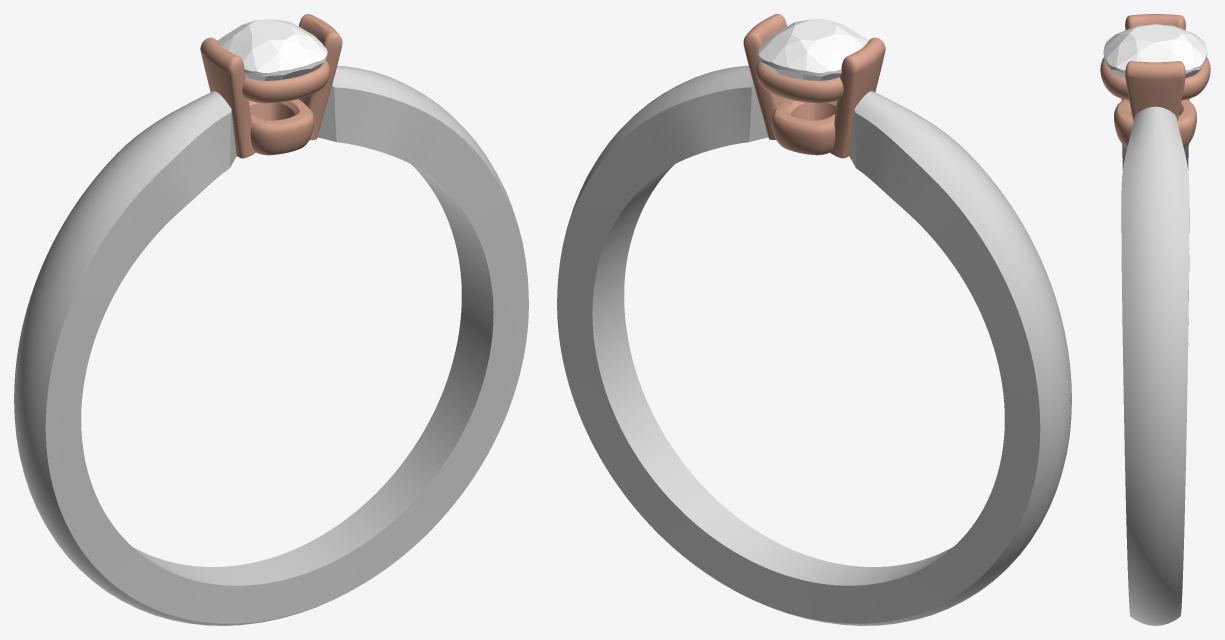
Rendered from pinkPTrose_webgi.glb.
3 renders of one model, left to right at view 1: azimuth 30°, elevation 25°; view 2: azimuth 150°, elevation 25°; view 3: azimuth 270°, elevation 25°, orthographic. The views are drawn at different scales.
Parts seen in each view (by area): view 1: pink_PT_ring_PT_shank, pink_rose_for_3d_model, pink_dia_for_3d_model; view 2: pink_PT_ring_PT_shank, pink_rose_for_3d_model, pink_dia_for_3d_model; view 3: pink_PT_ring_PT_shank, pink_rose_for_3d_model, pink_dia_for_3d_model.
Boxes of the visible parts, bbox=[...] form: pink_PT_ring_PT_shank: bbox=[14, 65, 528, 625]; pink_rose_for_3d_model: bbox=[200, 14, 342, 158]; pink_dia_for_3d_model: bbox=[217, 19, 327, 103]; pink_PT_ring_PT_shank: bbox=[557, 65, 1071, 625]; pink_rose_for_3d_model: bbox=[743, 14, 885, 158]; pink_dia_for_3d_model: bbox=[758, 19, 868, 103]; pink_PT_ring_PT_shank: bbox=[1121, 98, 1189, 625]; pink_rose_for_3d_model: bbox=[1100, 14, 1210, 147]; pink_dia_for_3d_model: bbox=[1103, 24, 1207, 77].
Size of the model in its own units: 2.64 by 2.96 by 0.5228.
